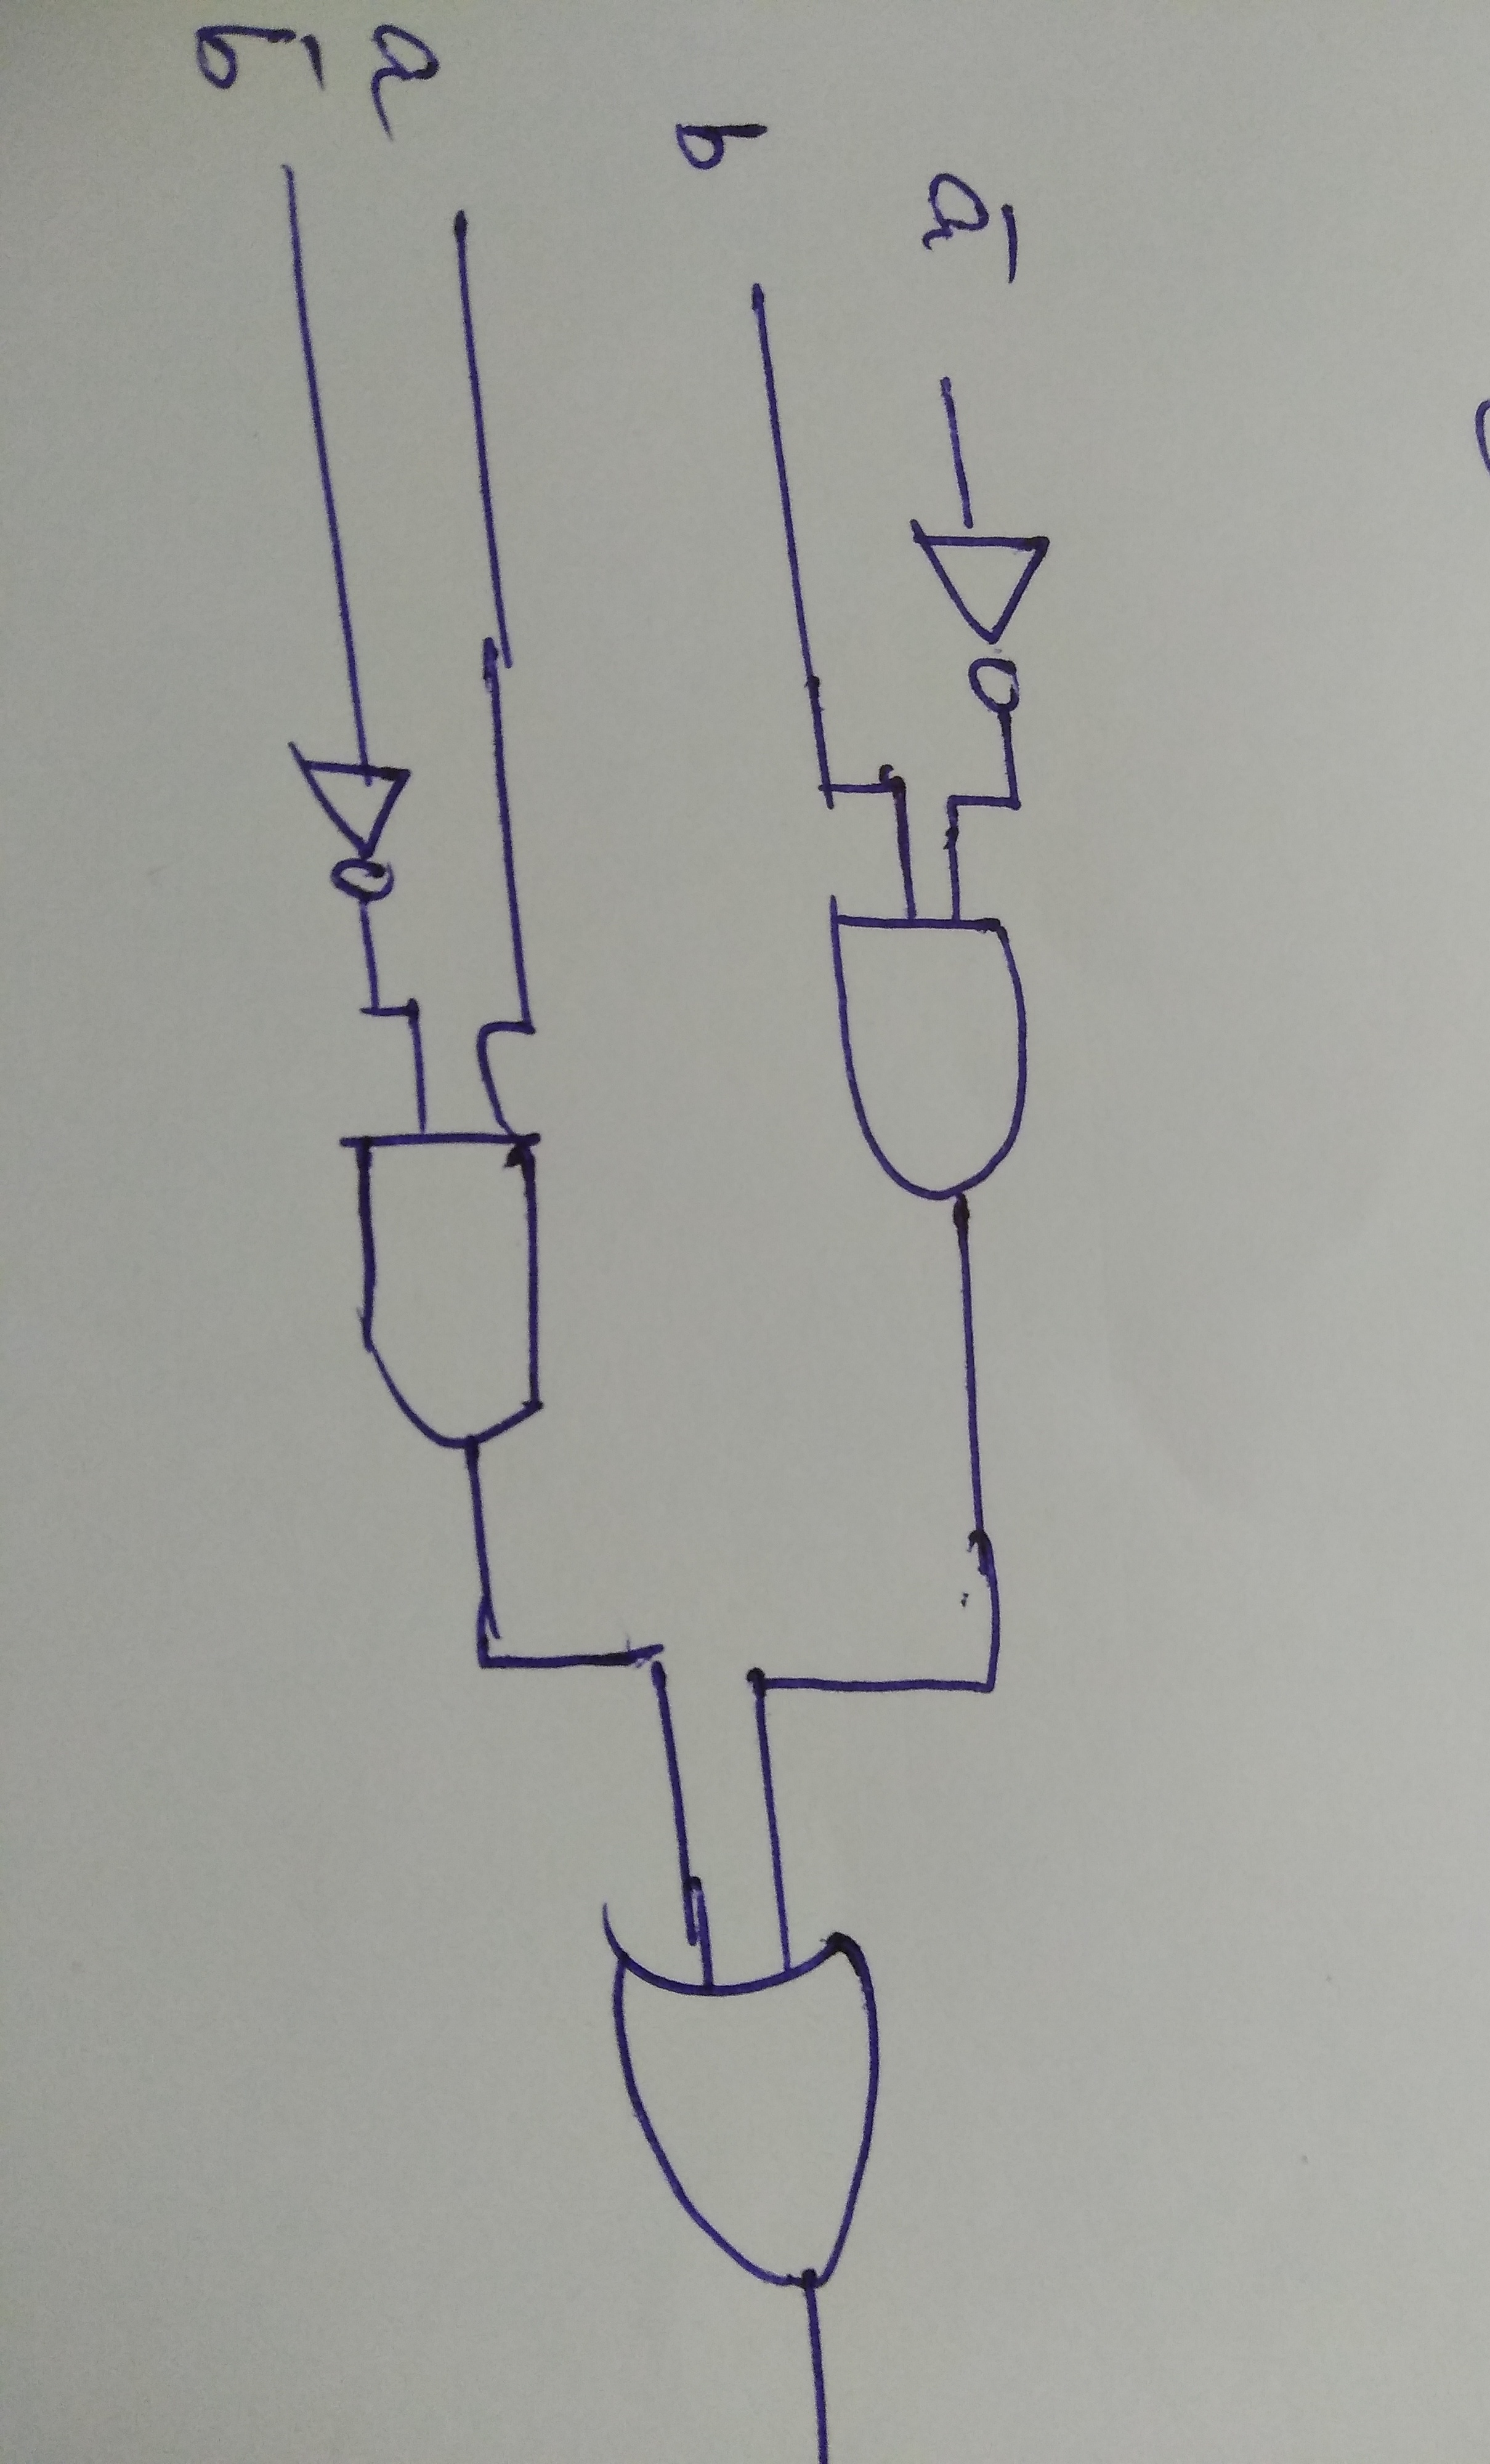and: (779, 855, 1098, 1269), (317, 1102, 591, 1514)
not: (881, 493, 1114, 746), (262, 729, 429, 931)
or: (577, 1873, 913, 2316)
